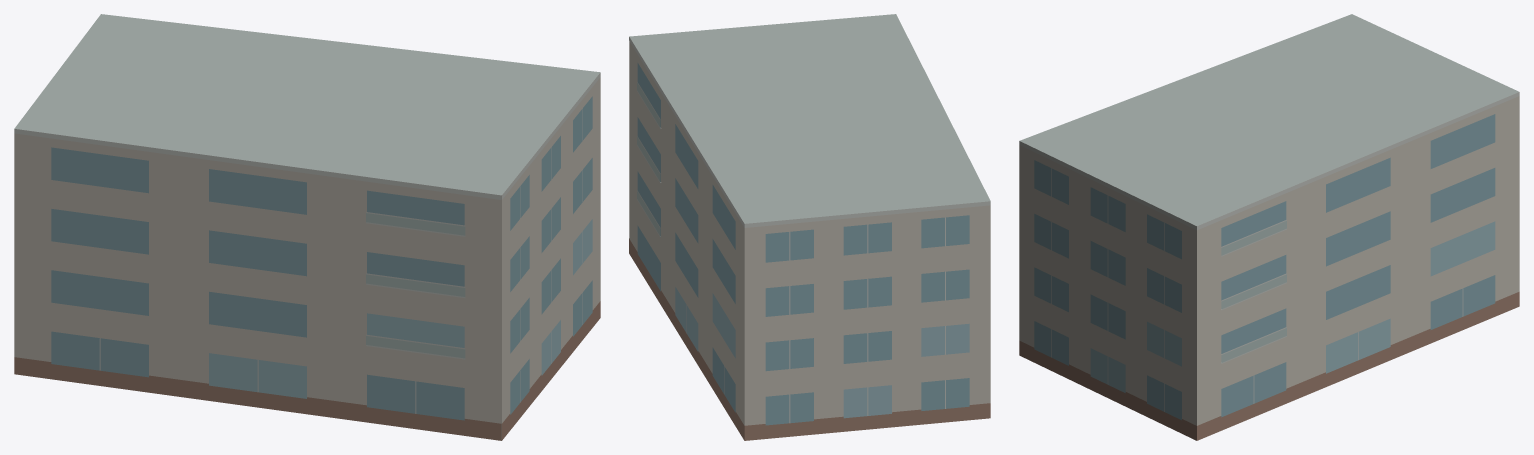
File: survey-upis-32992966.glb
3 views of the same model, side by side, from view 1: azimuth 30°, elevation 25°; view 2: azimuth 150°, elevation 25°; view 3: azimuth 270°, elevation 25° (orthographic). The views are drawn at different scales.
Parts seen in each view (by area): view 1: survey-upis-32992966.tmp; view 2: survey-upis-32992966.tmp; view 3: survey-upis-32992966.tmp.
Part boxes in pixels (x1,y1,x2,y2): survey-upis-32992966.tmp: [14, 14, 600, 440]; survey-upis-32992966.tmp: [629, 14, 990, 440]; survey-upis-32992966.tmp: [1019, 14, 1519, 440].
Bounding box in the file's own units: 27.38 × 12.9 × 27.26.
